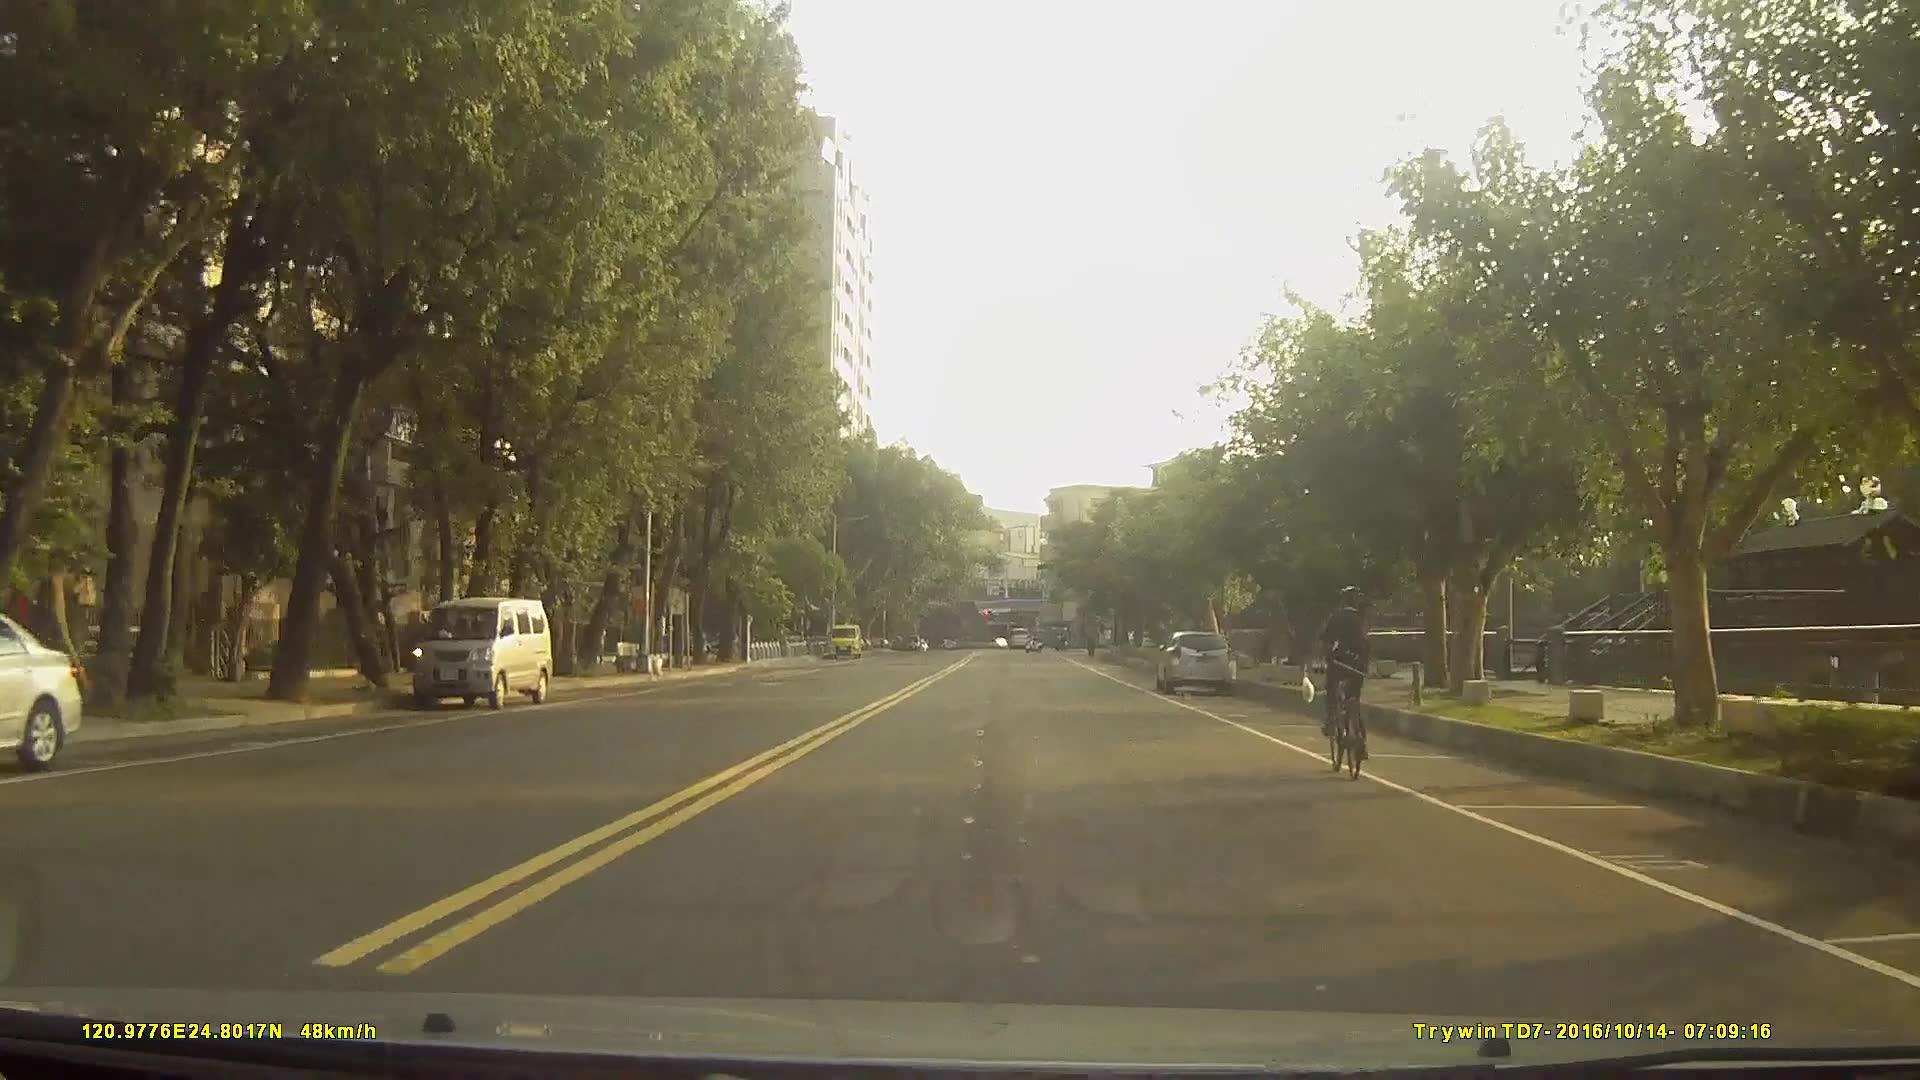rider: (1317, 586, 1369, 777)
vehicle: (411, 593, 552, 708), (0, 609, 80, 768), (1155, 628, 1237, 695), (1005, 623, 1030, 649)
